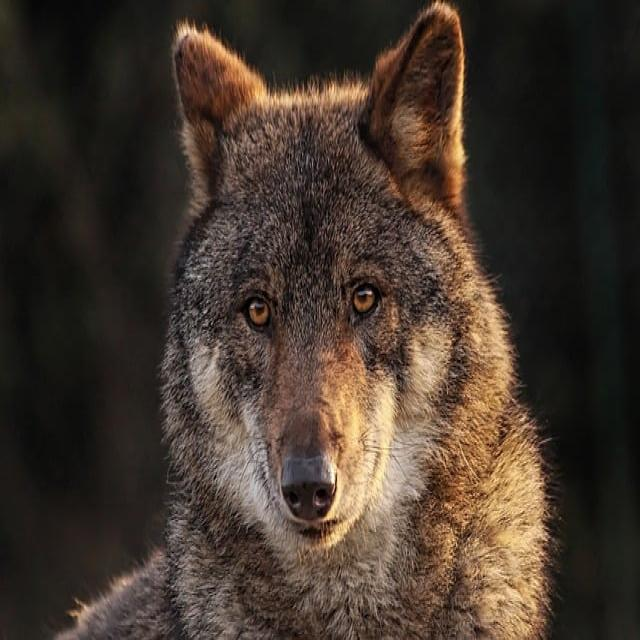Carnivorous: (54, 0, 564, 640)
